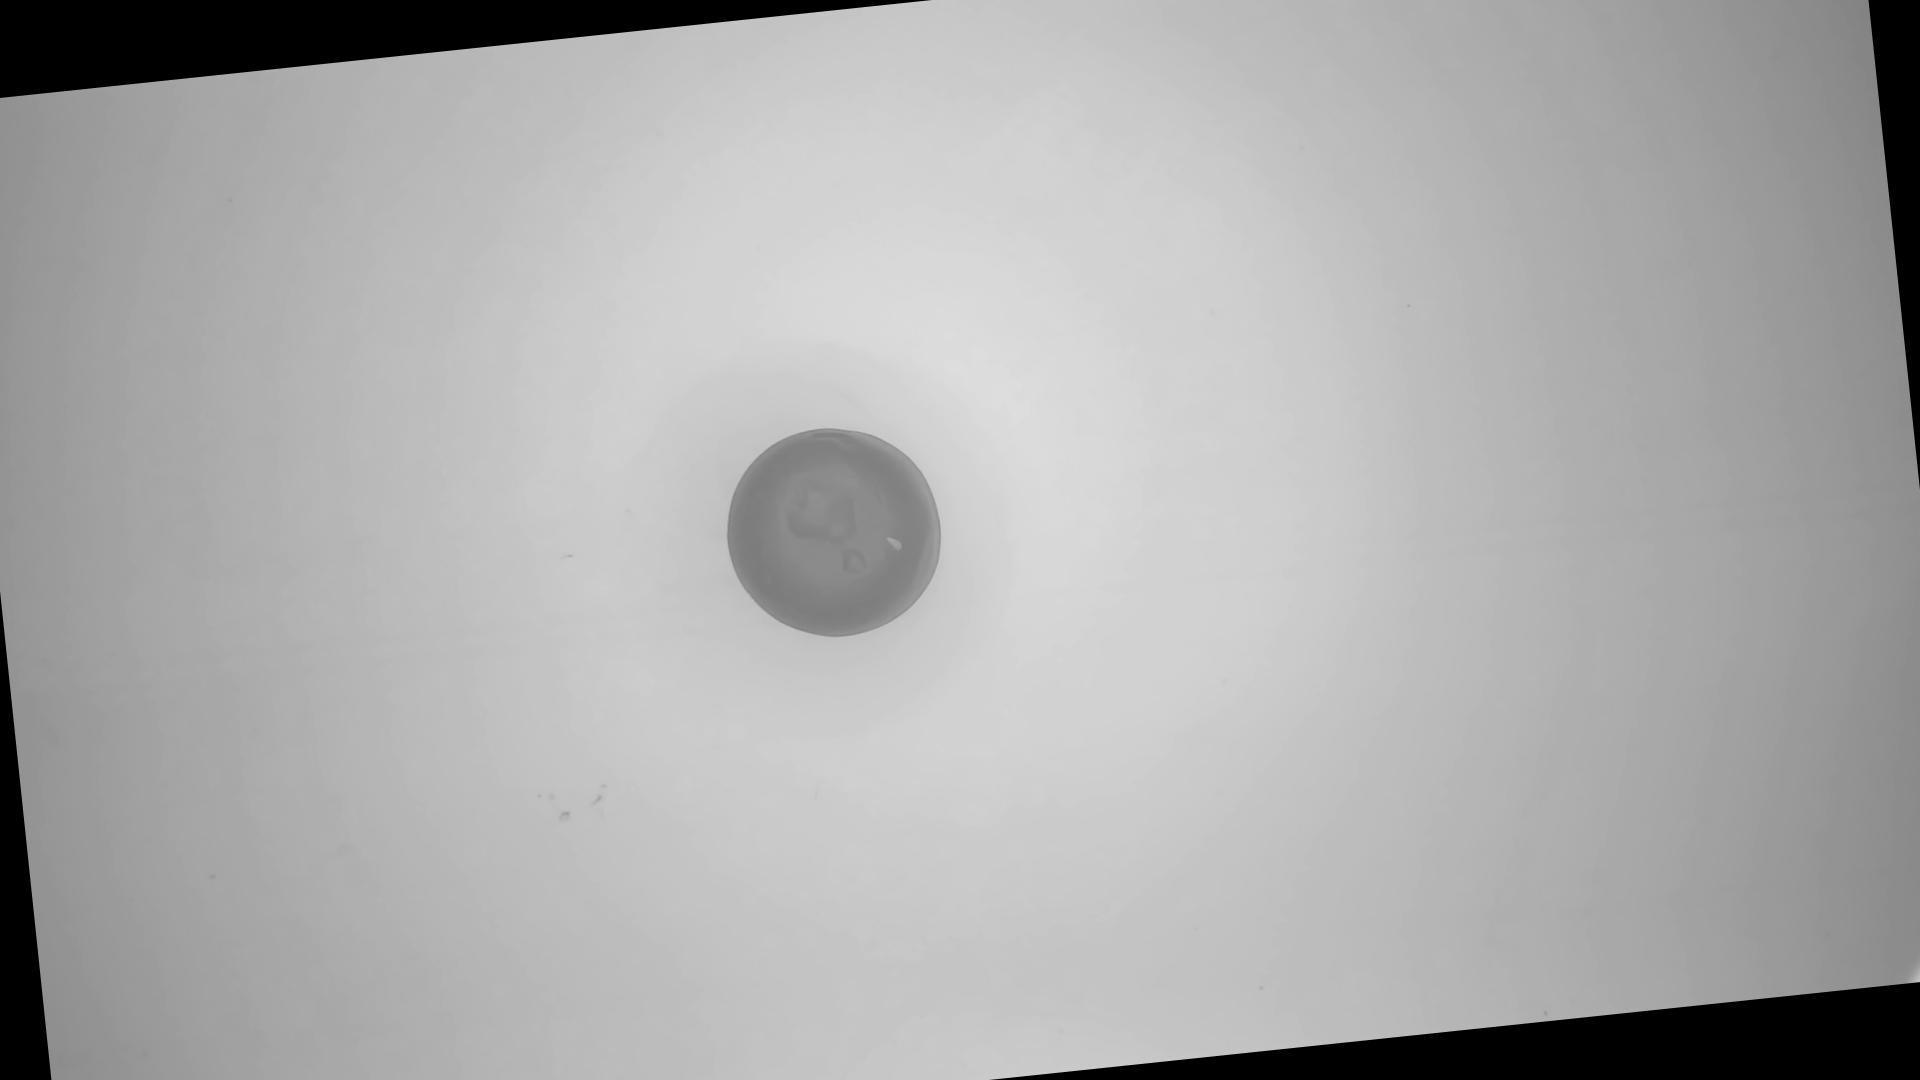abnormal: (717, 415, 955, 650)
